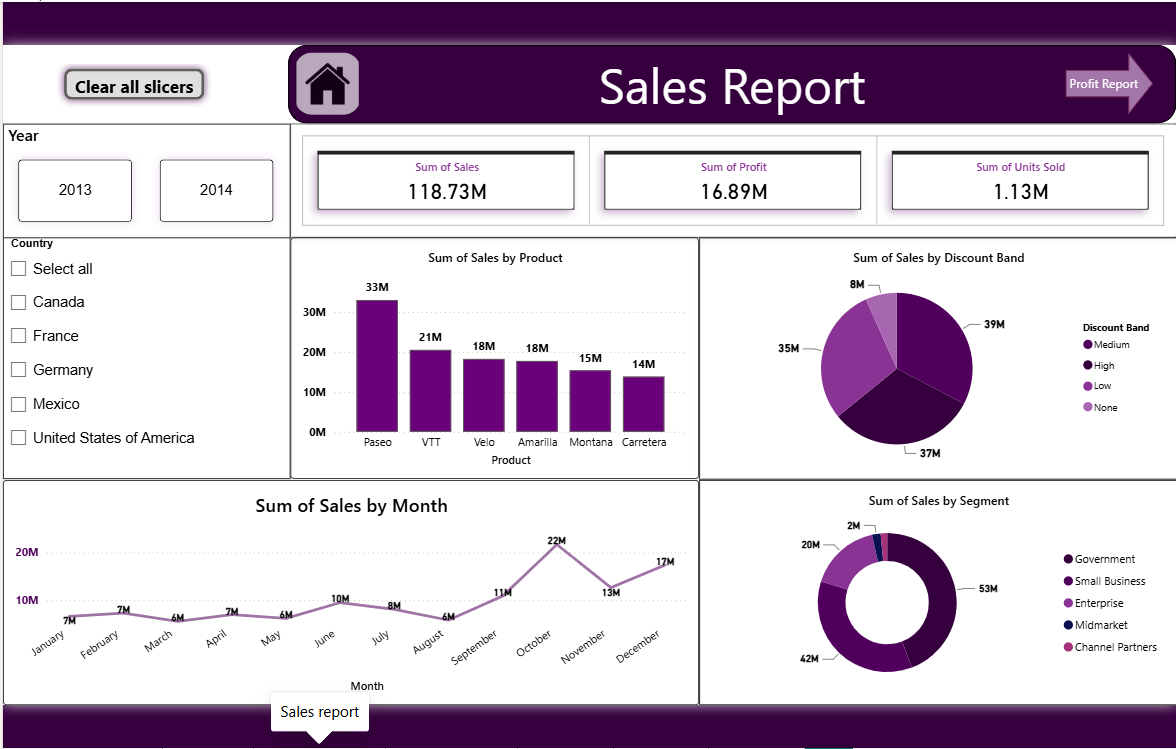

This screenshot's page, from the dashboard's own definition file:
{"tool":"powerbi","page":{"name":"Sales report","canvas":[1280,720],"ordinal":1},"visuals":[{"type":"columnChart","fields":{"Y":["Sum(financials.Sales)"],"Category":["financials.Product"]},"box":[313.3,210,445.6,263.3],"z":0},{"type":"pieChart","fields":{"Y":["Sum(financials.Sales)"],"Category":["financials.Discount Band"]},"box":[759,210.1,521.4,264.2],"z":1000},{"type":"donutChart","fields":{"Y":["Sum(financials.Sales)"],"Category":["financials.Segment"]},"box":[759,474.4,521.4,245.6],"z":2000},{"type":"lineChart","fields":{"Category":["financials.Date.Variation.Date Hierarchy.Month"],"Y":["Sum(financials.Sales)"]},"box":[0,474.4,759,245.6],"z":3000},{"type":"cardVisual","fields":{"Data":["Sum(financials.Sales)","Sum(financials.Profit)","Sum(financials.Units Sold)"]},"box":[313,86,967,124],"z":4000},{"type":"slicer","fields":{"Values":["financials.Country"]},"box":[0,209.2,313.2,264.4],"z":5000},{"type":"advancedSlicerVisual","title":"Year","fields":{"Label":["Sum(financials.Sales)"],"Values":["financials.Date.Variation.Date Hierarchy.Year"]},"box":[0,85.6,313.3,124.4],"z":6000},{"type":"shape","box":[311.1,0,968.9,85.6],"z":7000},{"type":"actionButton","box":[58.9,17.8,168.9,50],"z":8000},{"type":"image","box":[318.3,8,72.7,68.3],"z":9000},{"type":"shape","box":[1158.9,7.8,95.6,67.8],"z":10000}]}

Visuals, with their boxes on the page's 1280x720 design canvas (x1, y1, x2, y2). These are canvas units, not pixel positions in the 1176x749 screenshot, which may show the page scaled, cropped or inside an application window:
columnChart - Sum(financials.Sales) x financials.Product: BBox(313, 210, 759, 473)
pieChart - Sum(financials.Sales) x financials.Discount Band: BBox(759, 210, 1280, 474)
donutChart - Sum(financials.Sales) x financials.Segment: BBox(759, 474, 1280, 720)
lineChart - financials.Date.Variation.Date Hierarchy.Month x Sum(financials.Sales): BBox(0, 474, 759, 720)
cardVisual - Sum(financials.Sales) x Sum(financials.Profit): BBox(313, 86, 1280, 210)
slicer - financials.Country: BBox(0, 209, 313, 474)
"Year" advancedSlicerVisual: BBox(0, 86, 313, 210)
shape: BBox(311, 0, 1280, 86)
actionButton: BBox(59, 18, 228, 68)
image: BBox(318, 8, 391, 76)
shape: BBox(1159, 8, 1254, 76)
